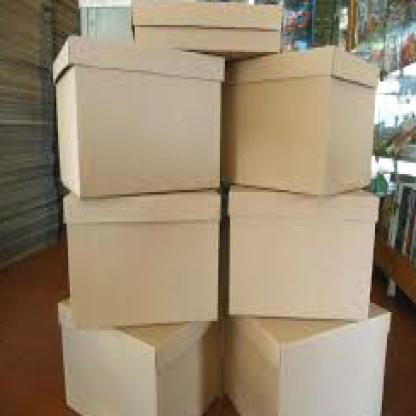package: (49, 41, 226, 197), (223, 46, 379, 198), (63, 194, 221, 331), (227, 182, 378, 322), (56, 293, 226, 416), (224, 298, 391, 416), (132, 0, 284, 51)
